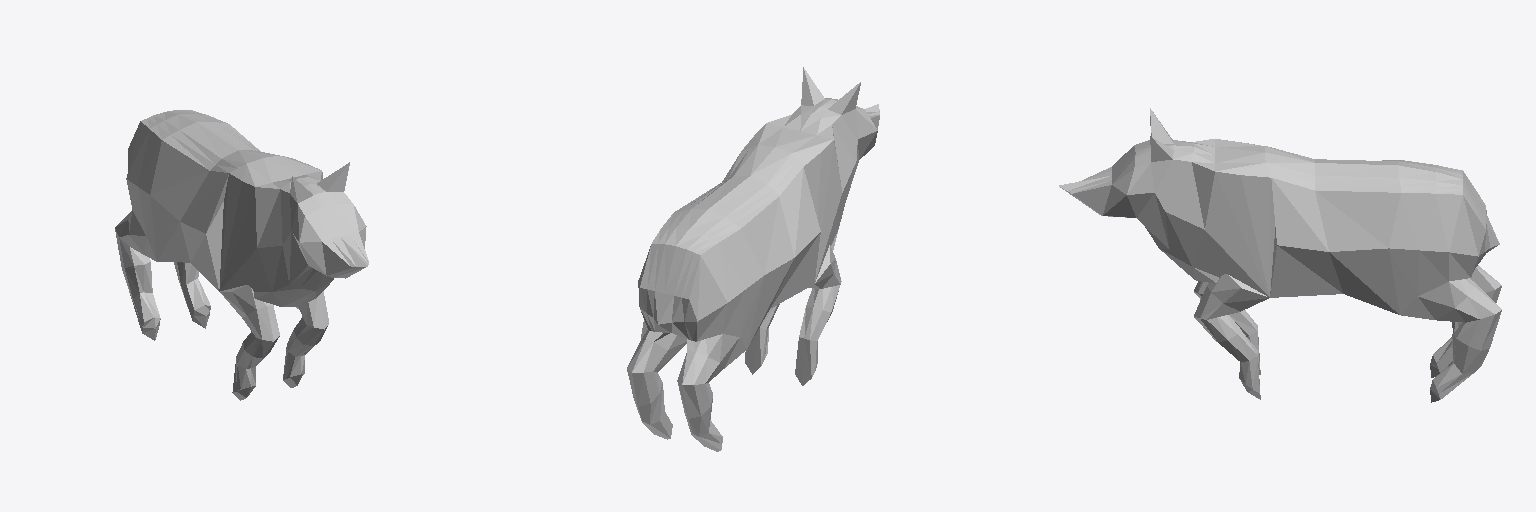
Rendered from piesblendtex_000027.obj.
The picture shows the model from 3 angles: view 1: azimuth 30°, elevation 25°; view 2: azimuth 150°, elevation 25°; view 3: azimuth 270°, elevation 25°; orthographic projection.
Parts seen in each view (by area): view 1: Cube; view 2: Cube; view 3: Cube.
Boxes of the visible parts, box(x1,y1,x2,y2) form: Cube: box(115, 110, 368, 400); Cube: box(627, 67, 879, 451); Cube: box(1059, 108, 1501, 402).
Bounding box in the file's own units: 2.56 × 6.39 × 9.57.